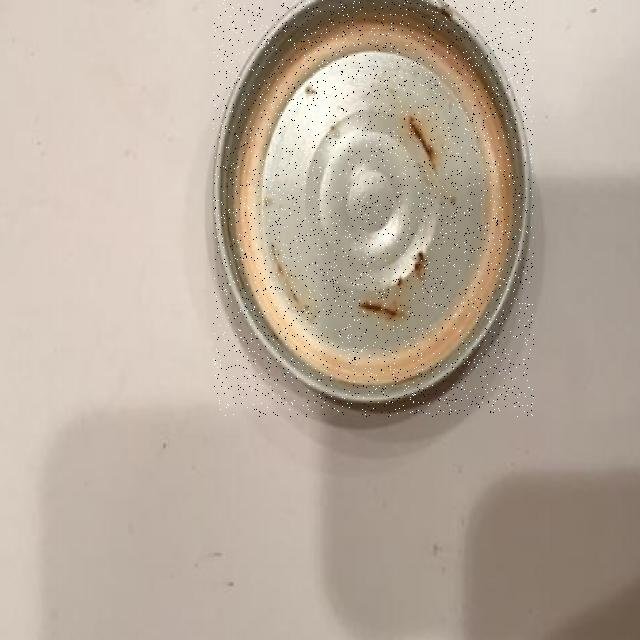metal: (213, 0, 534, 417)
